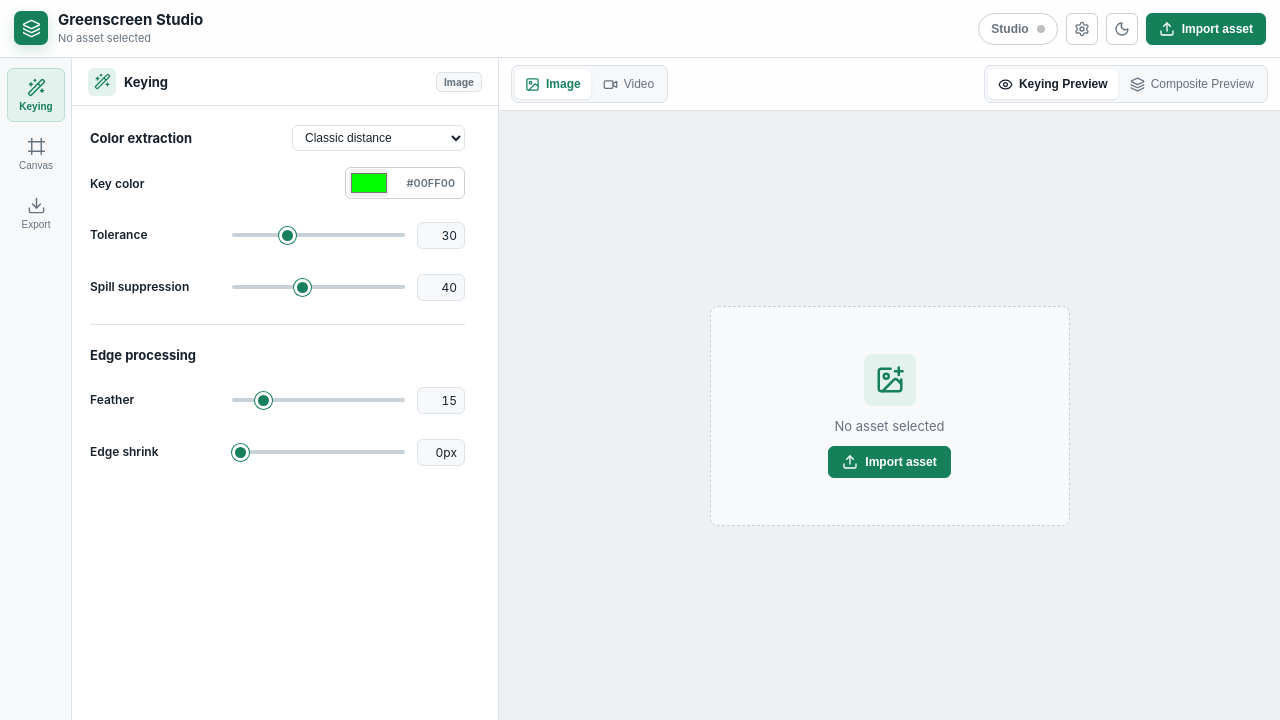
Scenario: App shell › switches theme and persists the preference
Click the button named "Switch to dark mode": [1122, 28] box [1106,12,1138,44]
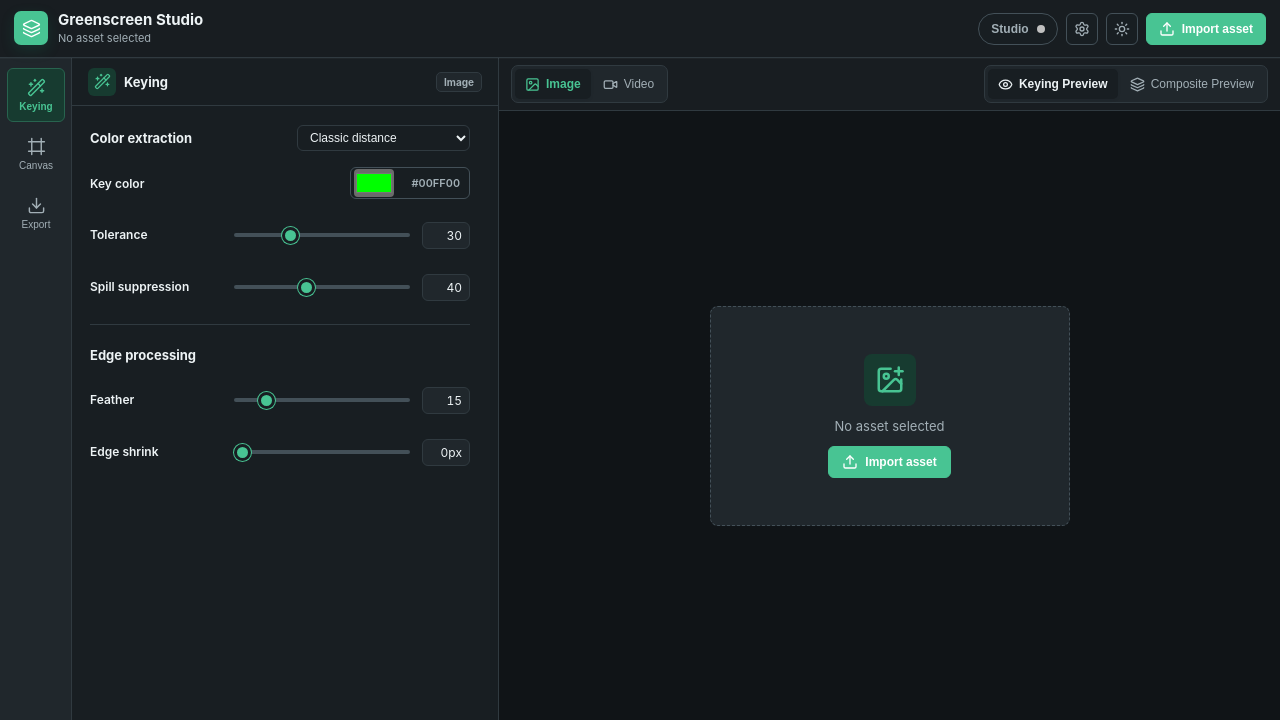
Now the button named "Switch to light mode" is shown, box [1106,12,1138,44]
